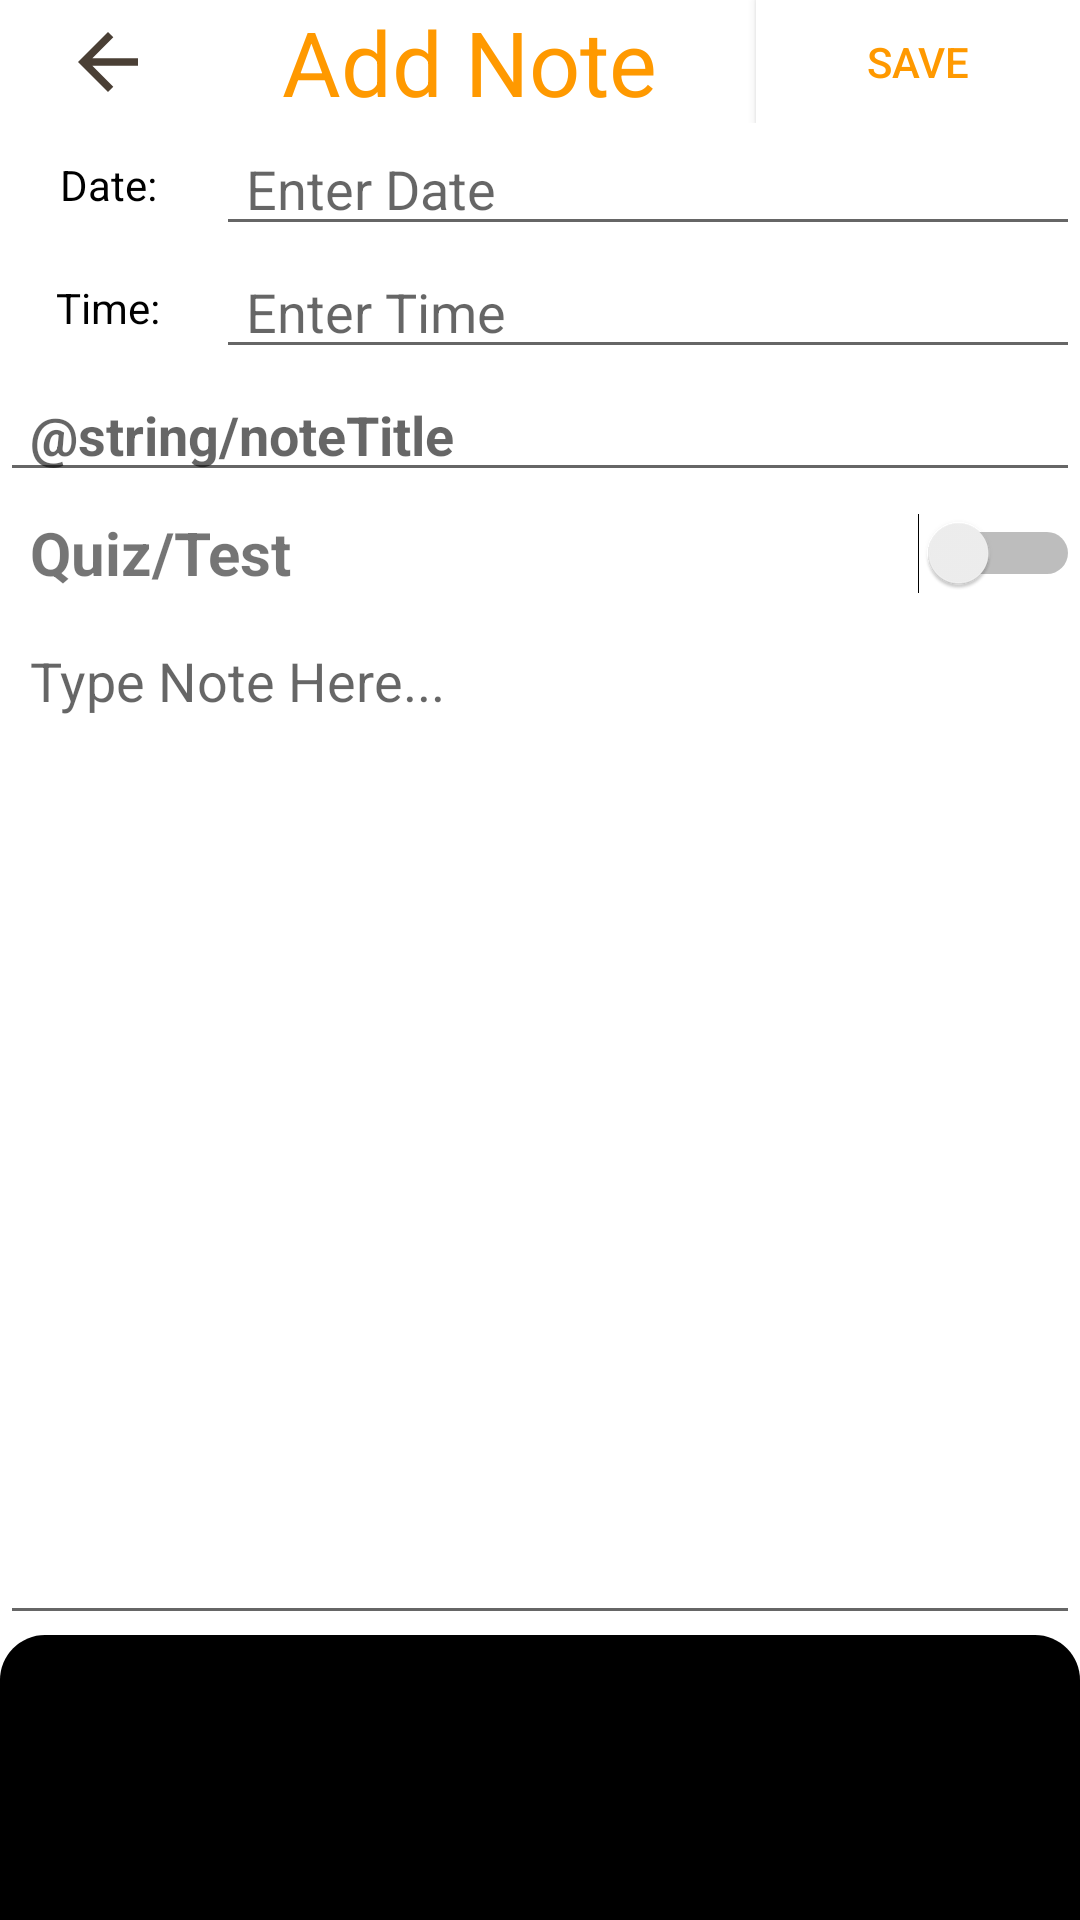

Where to tap for icons on this 1080x1920 app screen, as (x=x, y=y):
back: (x=108, y=62)
